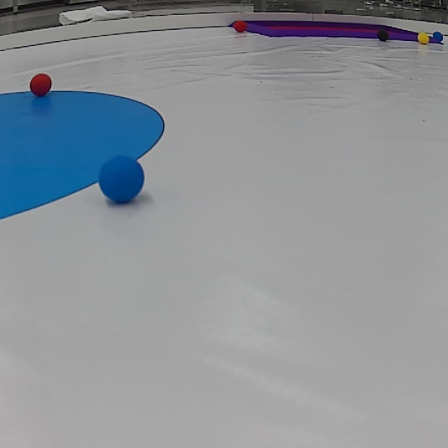black: (374, 28, 392, 43)
blue: (96, 152, 150, 208), (432, 29, 443, 44)
blue_base: (0, 89, 169, 223)
red: (26, 70, 57, 96), (232, 20, 250, 32)
red_aim: (228, 14, 443, 54)
yellow: (417, 31, 431, 46)
